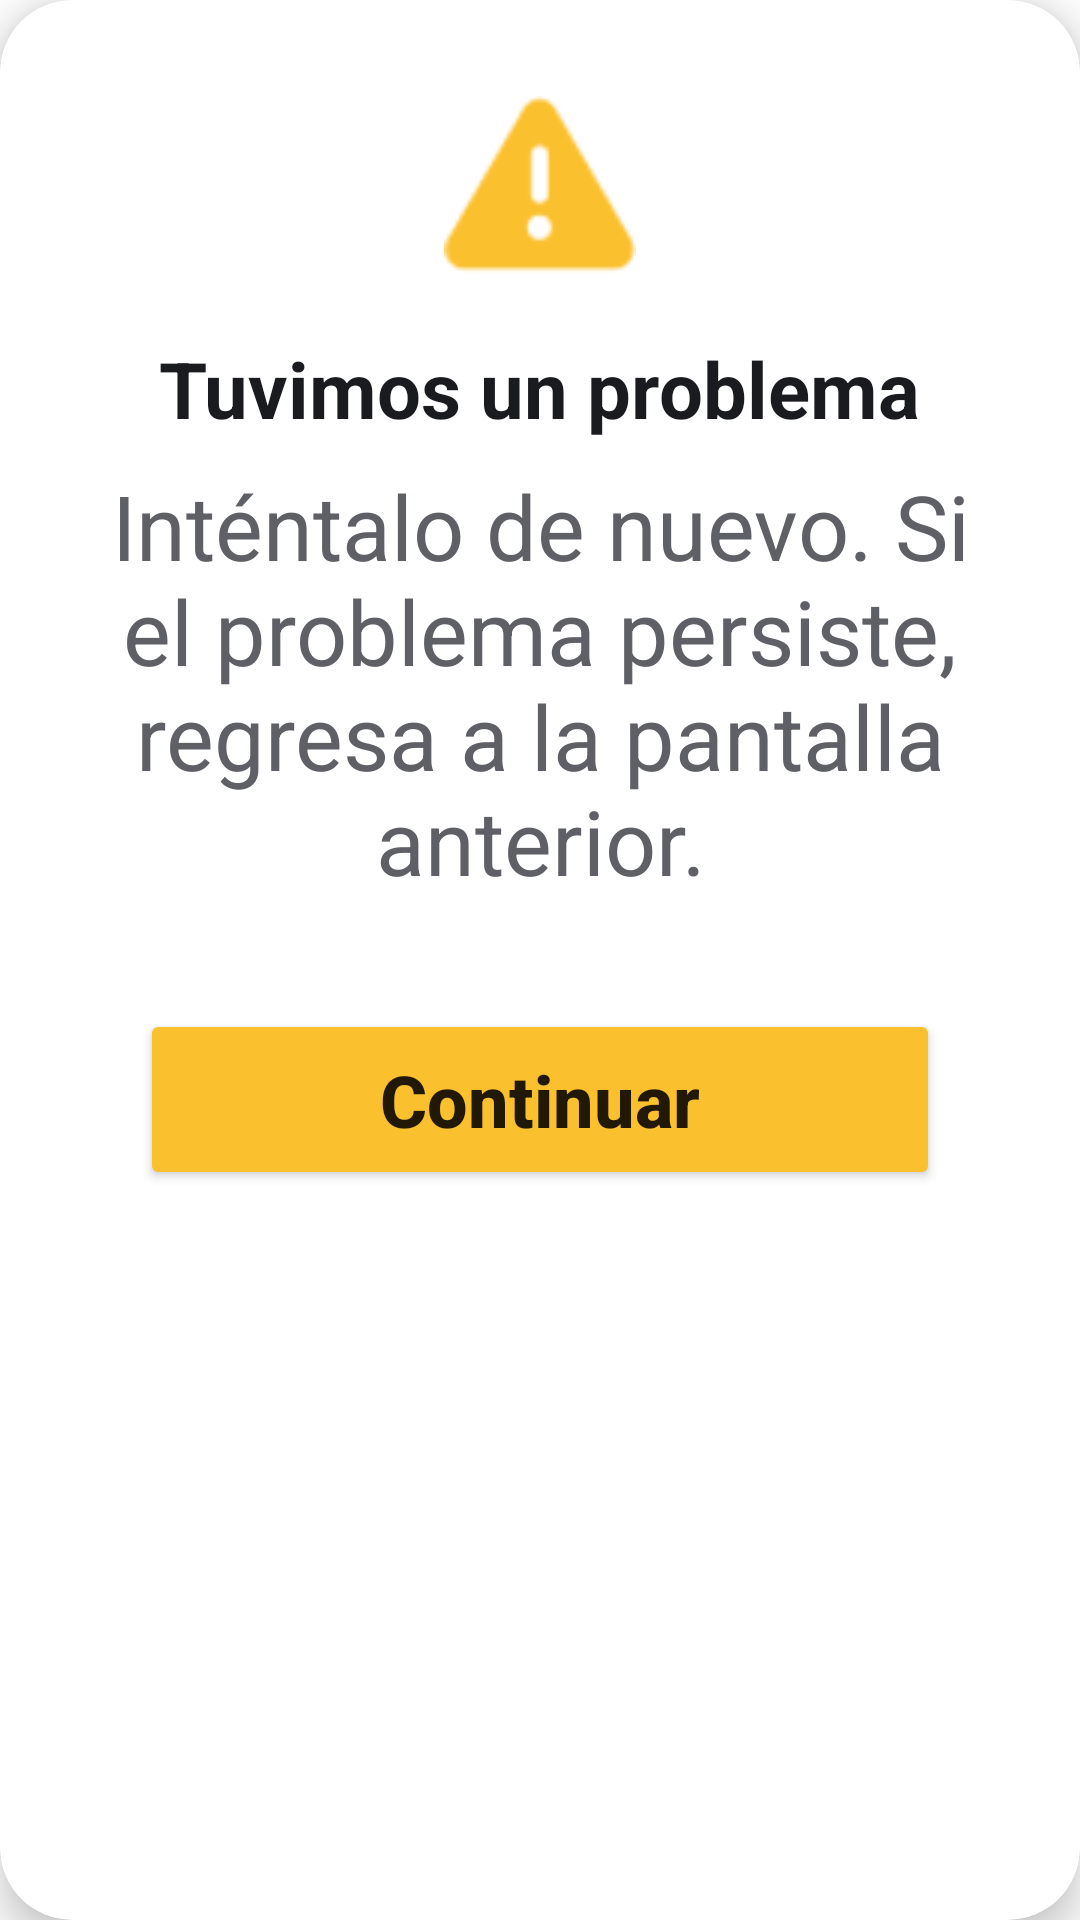

Named icons in this screenshot (1080px x 1920px) and their centers, [x,y]:
alert: [540,183]
